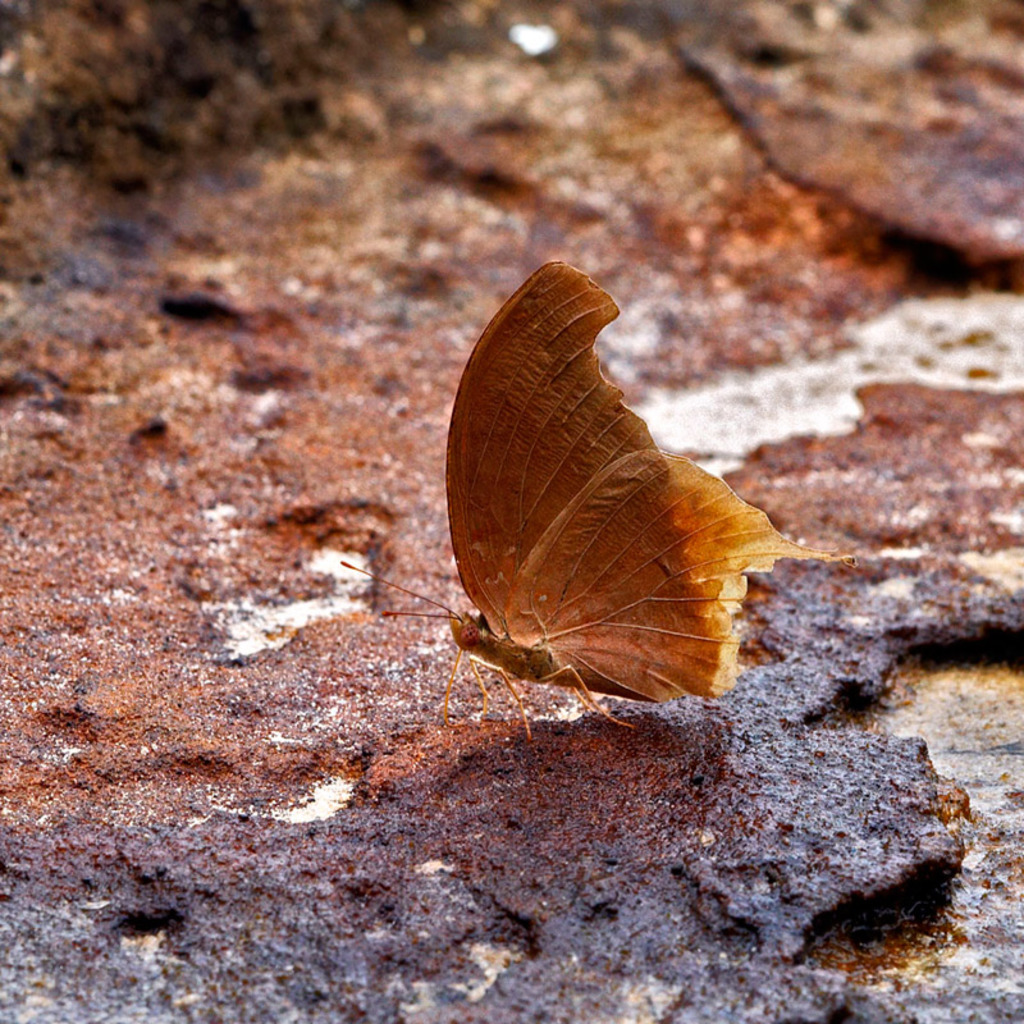Butterfly: (414, 235, 842, 731)
